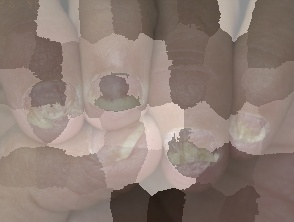Nail_psoriasis: (15, 79, 85, 134), (83, 79, 147, 122), (223, 110, 274, 151), (162, 134, 220, 166)
